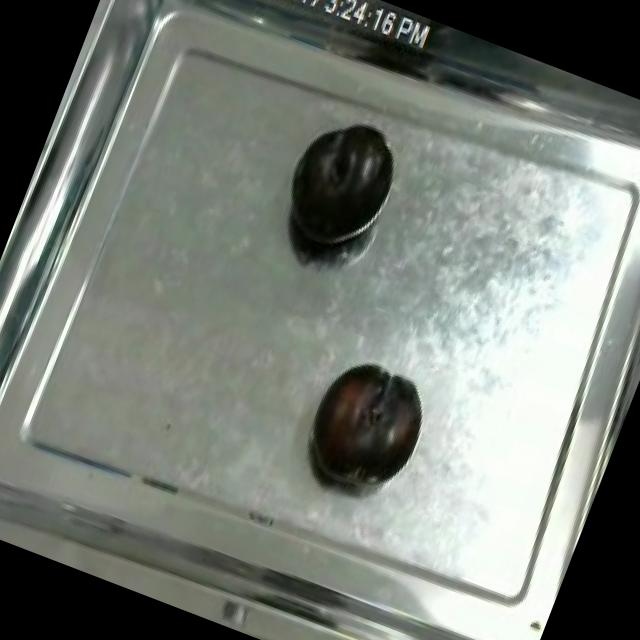Fruit: (268, 101, 410, 269), (294, 346, 438, 500)
